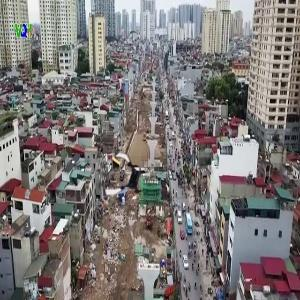drone: (102, 152, 153, 203)
